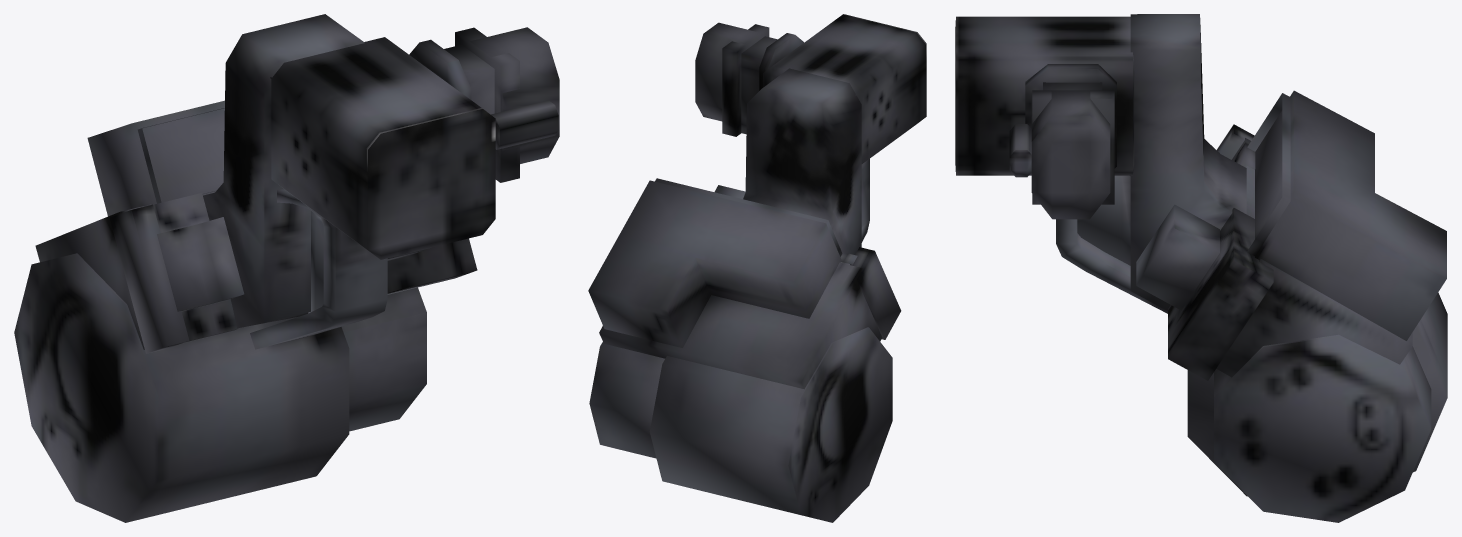
Rendered from r_clav.dae.
3 renders of one model, left to right at view 1: azimuth 30°, elevation 25°; view 2: azimuth 150°, elevation 25°; view 3: azimuth 270°, elevation 25°, orthographic. The views are drawn at different scales.
Parts seen in each view (by area): view 1: r_clav; view 2: r_clav; view 3: r_clav.
Boxes of the visible parts, x1,y1,x2,y2 form: r_clav: (14,14,559,522); r_clav: (588,14,926,522); r_clav: (955,14,1447,522).
Size of the model in its own units: 0.1202 by 0.1828 by 0.1793.
Materials: 1 (1 with a texture image).
